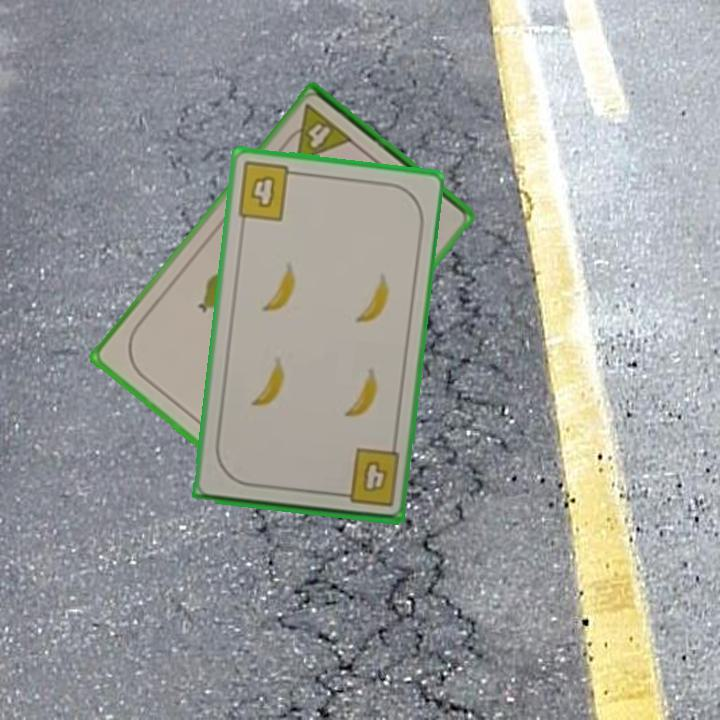4b: (233, 158, 302, 224), (332, 445, 402, 510)
4p: (278, 101, 357, 165)
